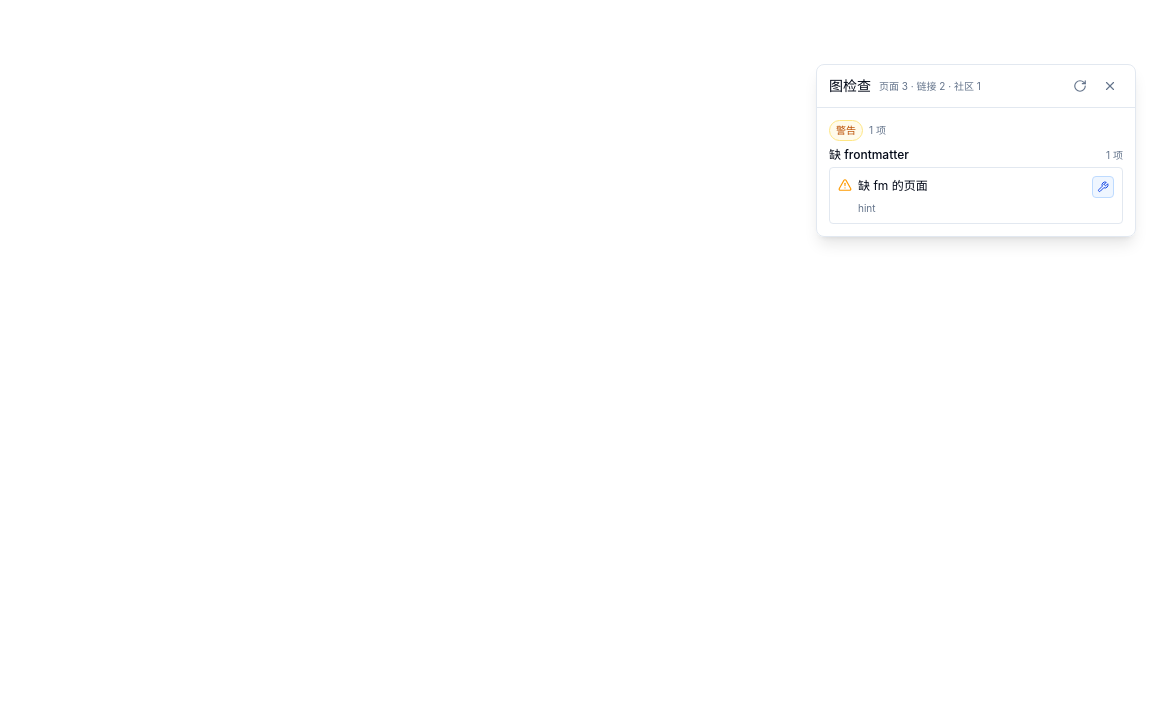
Test: LintPanel › 修复成功后 issue 从列表移除并显示成功 toast
This screenshot has width=1152, height=720.
What coordinates should you click on to do the following:
click the button named "一键修复"
I would click on:
 (1103, 187)
Its box is [1092,176,1114,198].
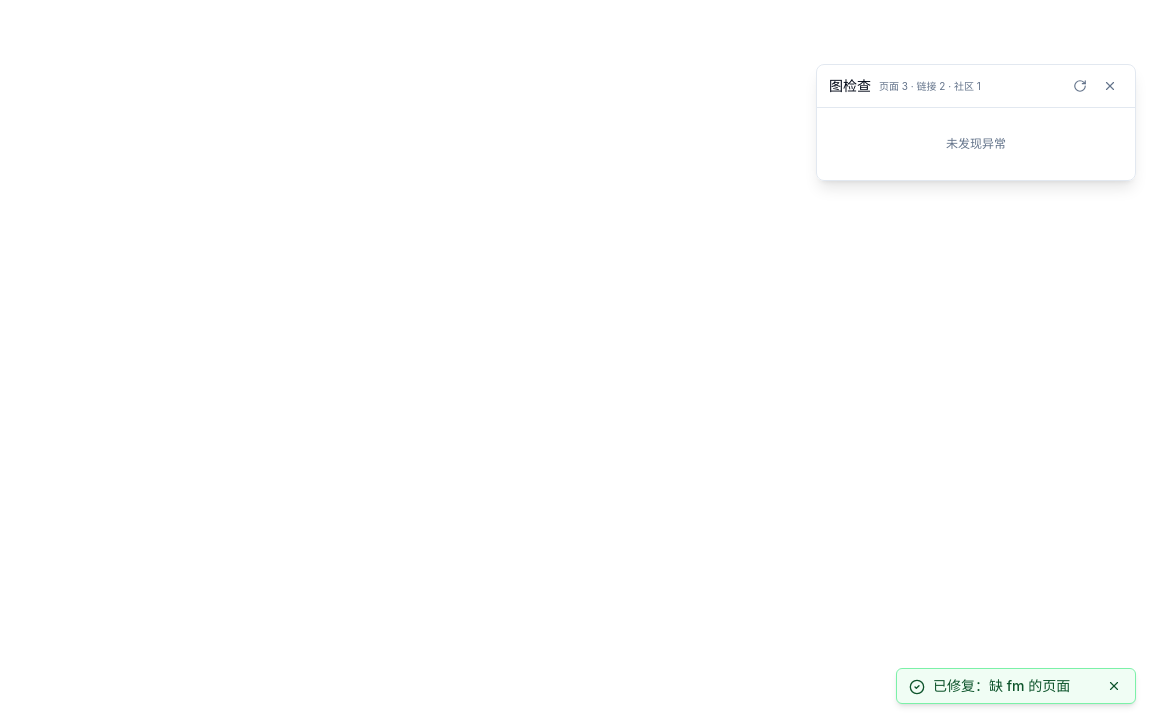
Expected: the text "已修复：缺 fm 的页面" is shown, [933,677,1070,694]
